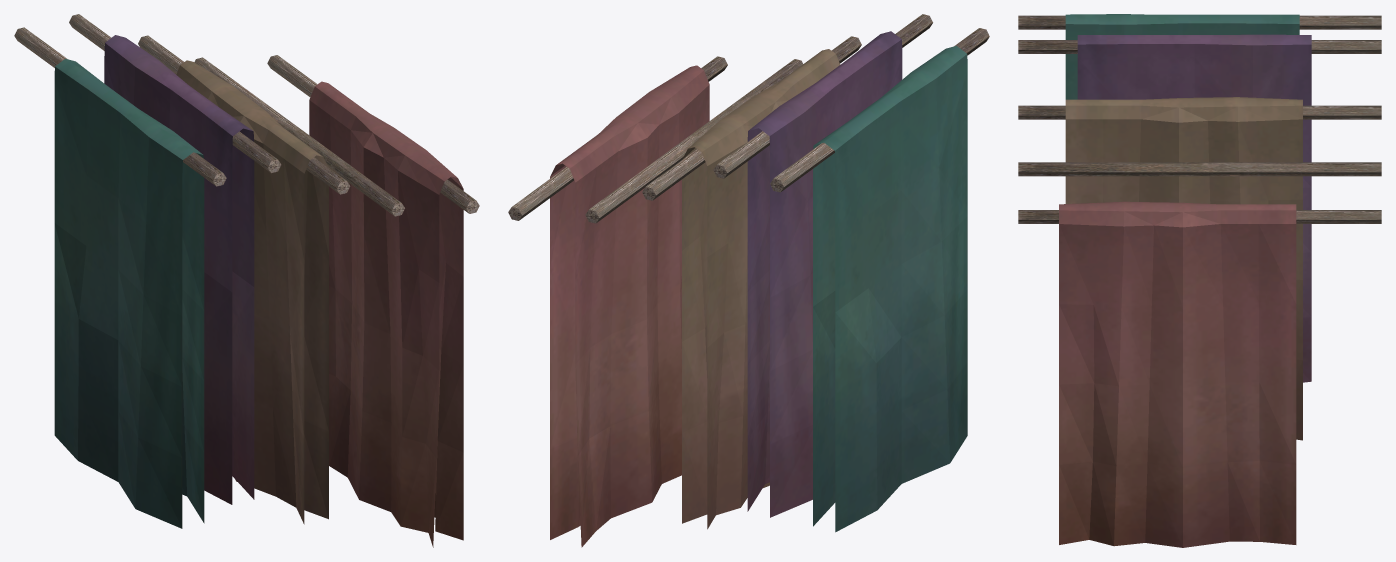
Rendered from bg_anh_mirrorv_dc05_sm_ysi.FBX.
The picture shows the model from 3 angles, left to right: view 1: azimuth 30°, elevation 25°; view 2: azimuth 150°, elevation 25°; view 3: azimuth 270°, elevation 25°; orthographic projection. The views are drawn at different scales.
Parts seen in each view (by area): view 1: bg_anh_mirrorv_dc05_sm_ysi; view 2: bg_anh_mirrorv_dc05_sm_ysi; view 3: bg_anh_mirrorv_dc05_sm_ysi.
Boxes of the visible parts, box(x1,y1,x2,y2) form: bg_anh_mirrorv_dc05_sm_ysi: box(14, 14, 479, 547); bg_anh_mirrorv_dc05_sm_ysi: box(508, 14, 989, 547); bg_anh_mirrorv_dc05_sm_ysi: box(1018, 14, 1381, 547).
Size of the model in its own units: 151 by 219 by 173.
